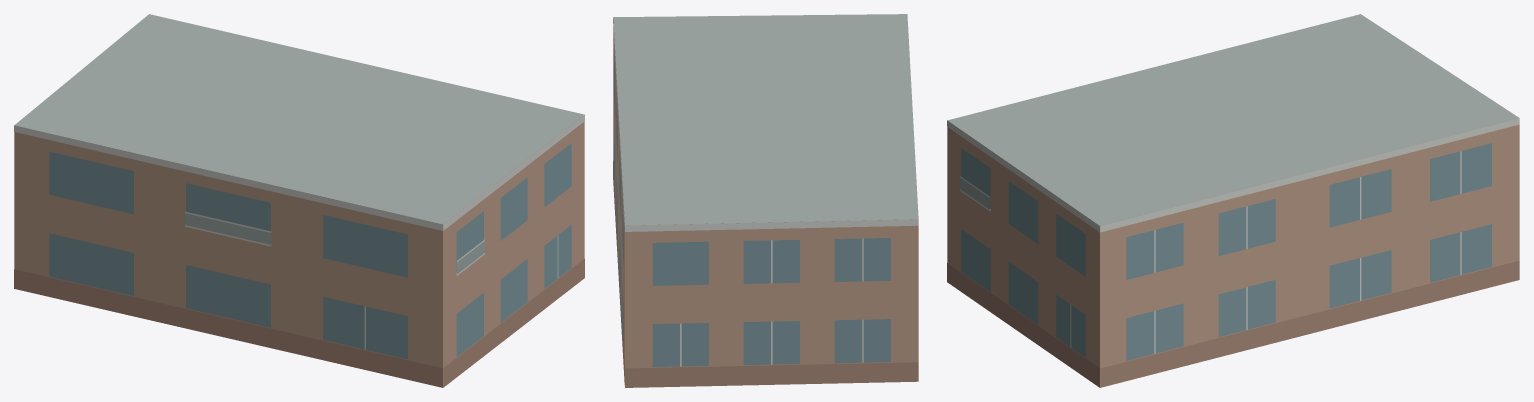
File: survey-upis-32880450.glb
The picture shows the model from 3 angles, left to right: view 1: azimuth 30°, elevation 25°; view 2: azimuth 150°, elevation 25°; view 3: azimuth 270°, elevation 25°; orthographic projection.
Visible parts, largest first — view 1: survey-upis-32880450.tmp; view 2: survey-upis-32880450.tmp; view 3: survey-upis-32880450.tmp.
Boxes of the visible parts, x1,y1,x2,y2 form: survey-upis-32880450.tmp: (14, 14, 584, 387); survey-upis-32880450.tmp: (613, 14, 918, 387); survey-upis-32880450.tmp: (947, 14, 1519, 387).
Bounding box in the file's own units: 17.15 × 6.1 × 19.57.
